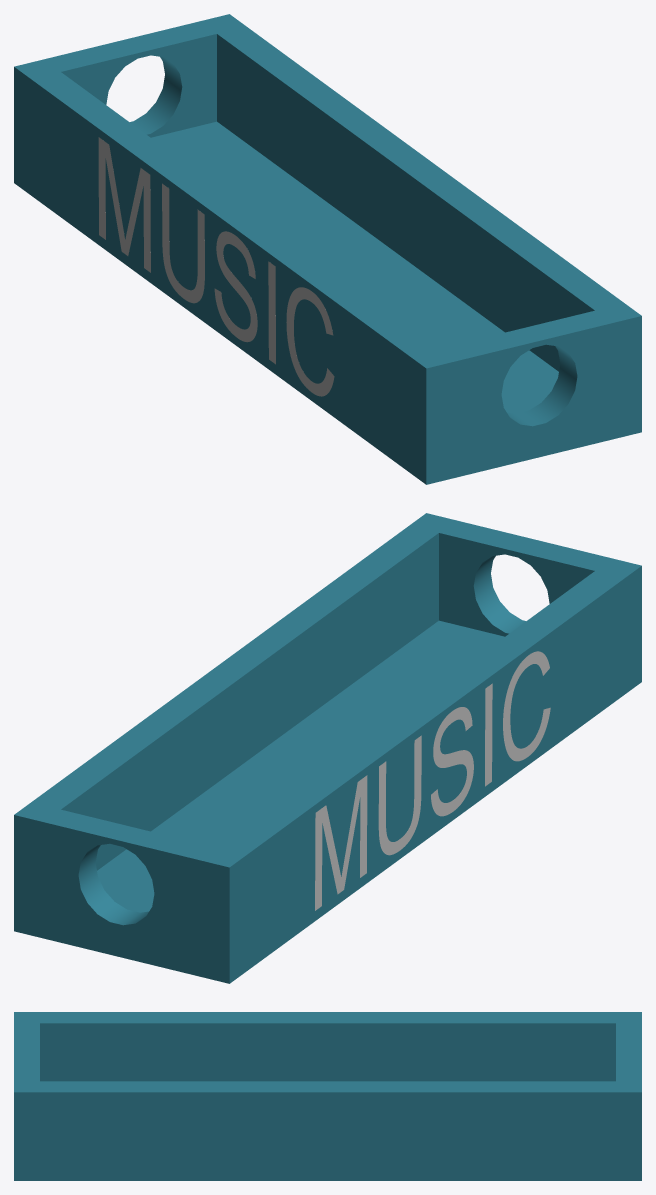
The model's file is music button.fbx.
3 renders of one model, top to bottom at view 1: azimuth 30°, elevation 25°; view 2: azimuth 150°, elevation 25°; view 3: azimuth 270°, elevation 25°, orthographic. The views are drawn at different scales.
Parts seen in each view (by area): view 1: music button; view 2: music button; view 3: music button.
Part boxes in pixels (bbox=[...]): music button: bbox=[14, 14, 641, 484]; music button: bbox=[14, 513, 641, 983]; music button: bbox=[14, 1012, 641, 1180].
Bounding box in the file's own units: 26.42 × 13.58 × 87.23.
